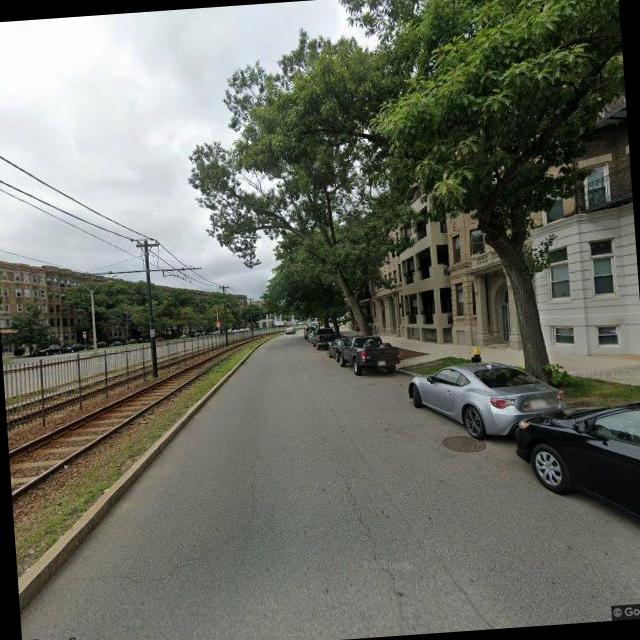pothole: (334, 460, 415, 635)
